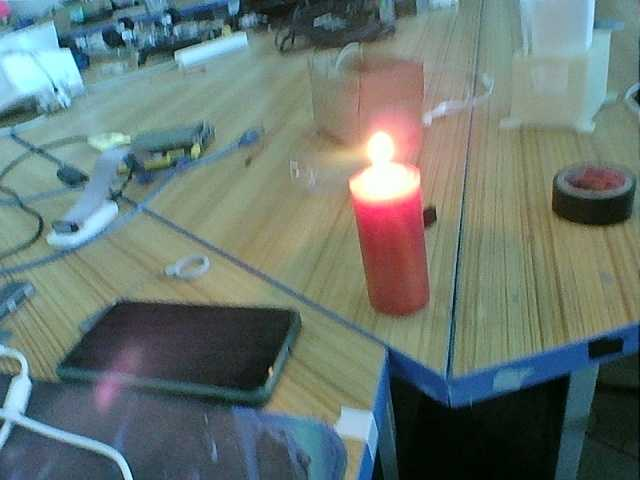candle: (349, 186, 436, 325)
fire: (347, 137, 421, 193)
